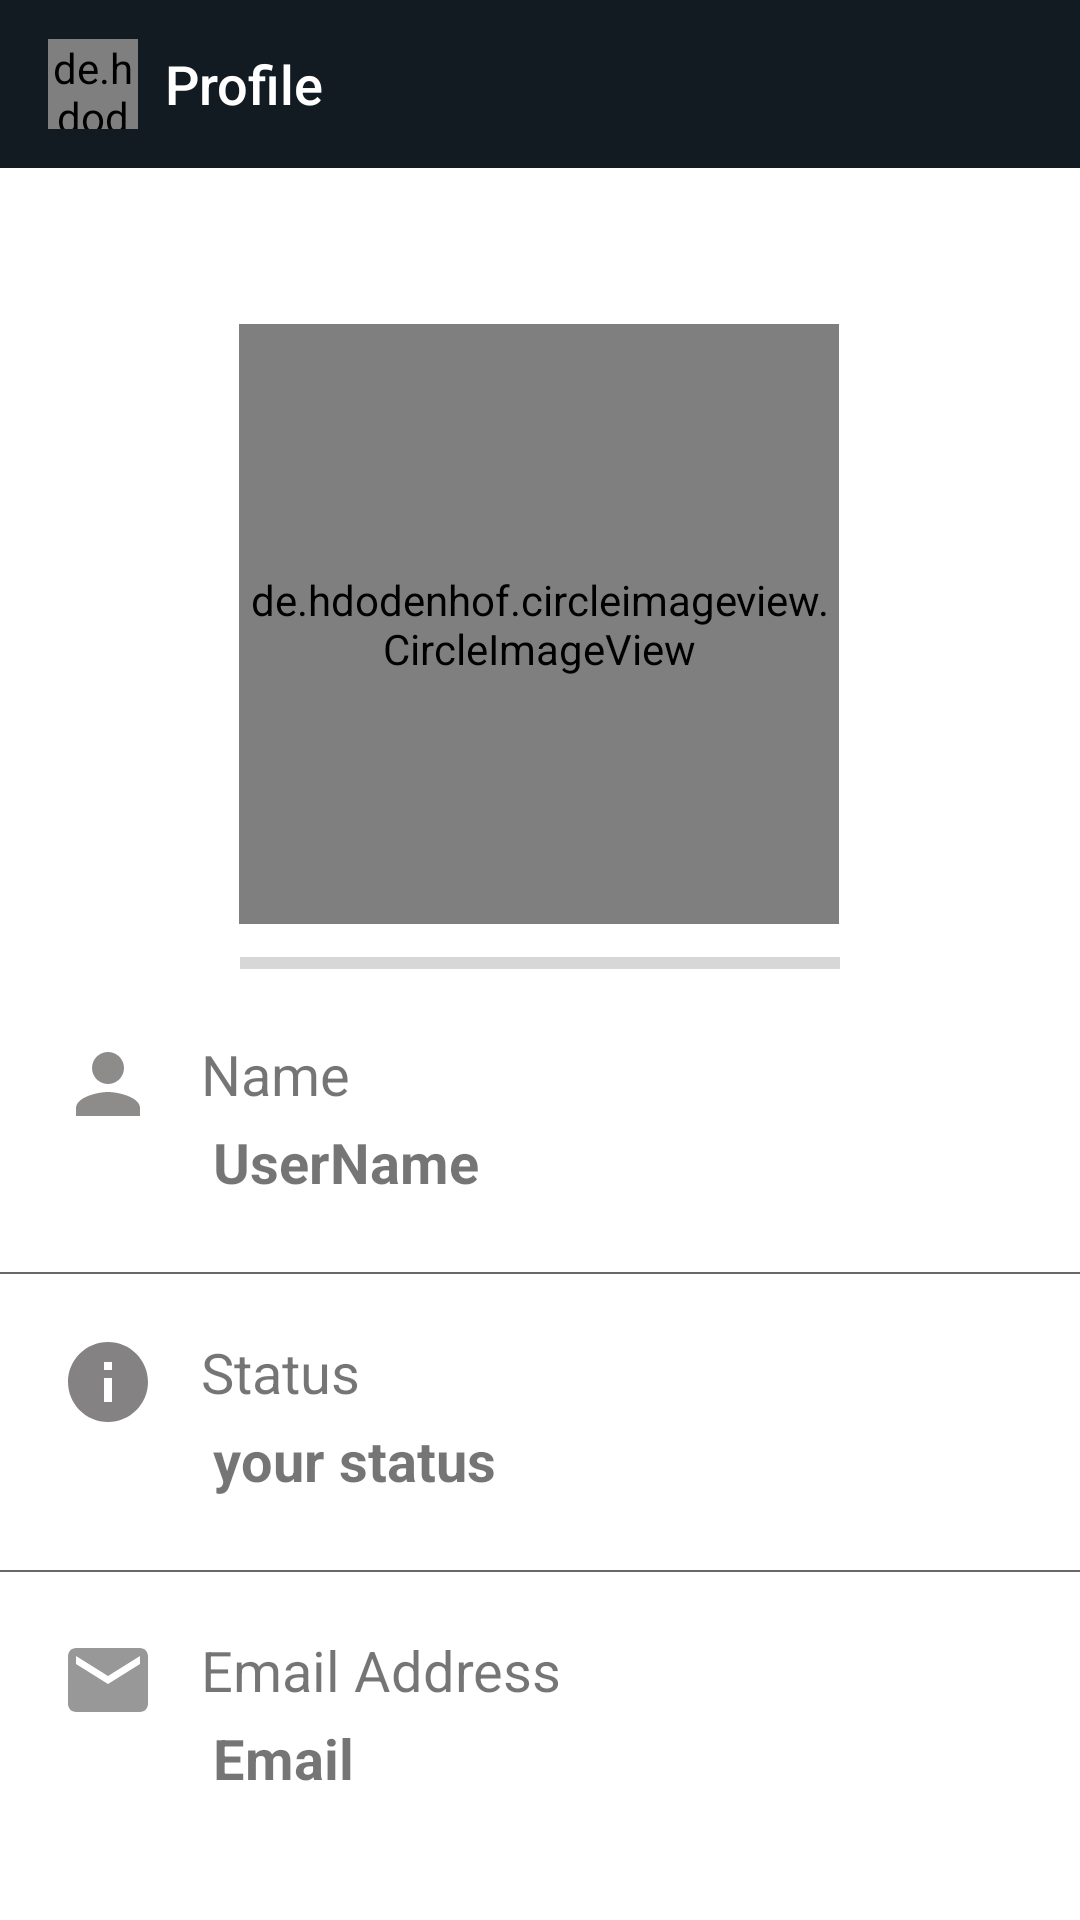

Locate icon controls on the screen. Image size 1080*1920, boxes as box(x1, y1, x2, y2).
info: box(68, 1342, 148, 1422)
person: box(76, 1052, 140, 1116)
